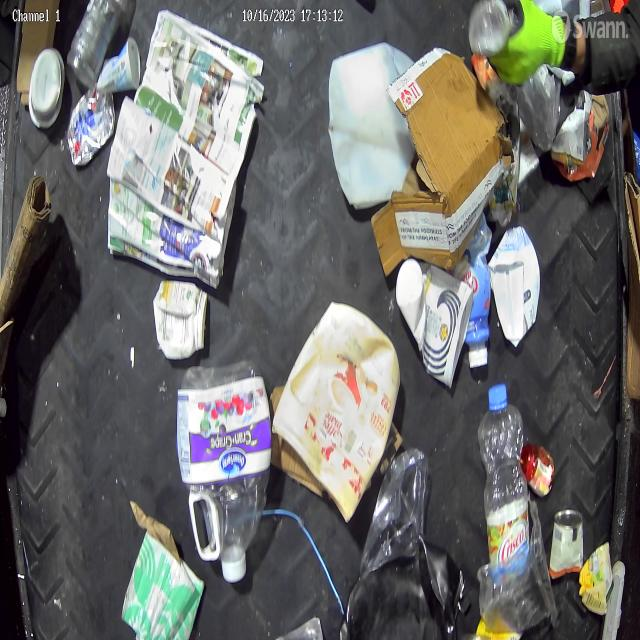can: (66, 85, 120, 170), (548, 513, 585, 576)
milk_jug: (330, 50, 408, 204)
non_white_jug: (272, 298, 399, 514)
plastic_bottle: (483, 379, 525, 576)
